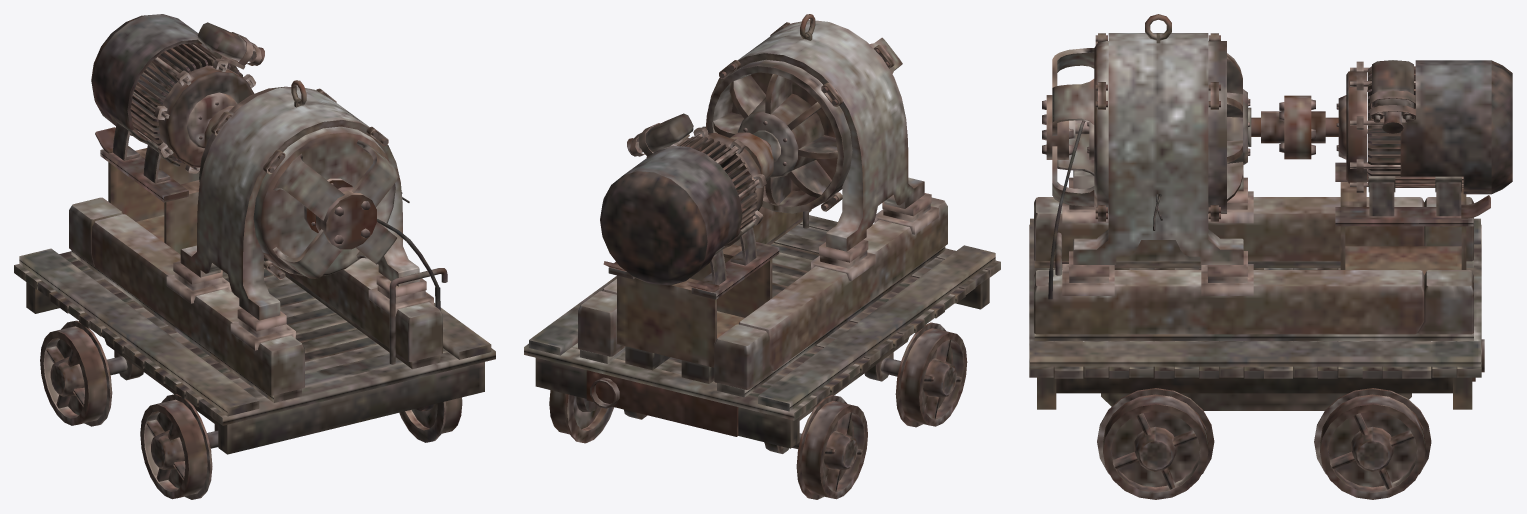
Rendered from sm22_084_disposalequipment01a.fbx.
The picture shows the model from 3 angles, left to right: view 1: azimuth 30°, elevation 25°; view 2: azimuth 150°, elevation 25°; view 3: azimuth 270°, elevation 25°; orthographic projection. The views are drawn at different scales.
Visible parts, largest first — view 1: LOD_1_Group_3_Sub_1__sm22_084_DisposalEquipment01A_A_Mat, LOD_1_Group_2_Sub_1__sm22_084_DisposalEquipment01A_A_Mat, LOD_1_Group_5_Sub_1__sm22_084_DisposalEquipment01A_A_Mat, LOD_1_Group_0_Sub_1__sm22_084_DisposalEquipment01A_A_Mat, LOD_1_Group_4_Sub_1__sm22_084_DisposalEquipment01A_A_Mat, LOD_1_Group_1_Sub_1__sm22_084_DisposalEquipment01A_A_Mat; view 2: LOD_1_Group_3_Sub_1__sm22_084_DisposalEquipment01A_A_Mat, LOD_1_Group_5_Sub_1__sm22_084_DisposalEquipment01A_A_Mat, LOD_1_Group_2_Sub_1__sm22_084_DisposalEquipment01A_A_Mat, LOD_1_Group_4_Sub_1__sm22_084_DisposalEquipment01A_A_Mat, LOD_1_Group_1_Sub_1__sm22_084_DisposalEquipment01A_A_Mat, LOD_1_Group_0_Sub_1__sm22_084_DisposalEquipment01A_A_Mat; view 3: LOD_1_Group_3_Sub_1__sm22_084_DisposalEquipment01A_A_Mat, LOD_1_Group_5_Sub_1__sm22_084_DisposalEquipment01A_A_Mat, LOD_1_Group_2_Sub_1__sm22_084_DisposalEquipment01A_A_Mat, LOD_1_Group_1_Sub_1__sm22_084_DisposalEquipment01A_A_Mat, LOD_1_Group_0_Sub_1__sm22_084_DisposalEquipment01A_A_Mat, LOD_1_Group_4_Sub_1__sm22_084_DisposalEquipment01A_A_Mat.
Part boxes in pixels (bbox=[...]): LOD_1_Group_3_Sub_1__sm22_084_DisposalEquipment01A_A_Mat: bbox=[69, 80, 442, 395]; LOD_1_Group_2_Sub_1__sm22_084_DisposalEquipment01A_A_Mat: bbox=[14, 248, 495, 454]; LOD_1_Group_5_Sub_1__sm22_084_DisposalEquipment01A_A_Mat: bbox=[91, 14, 440, 310]; LOD_1_Group_0_Sub_1__sm22_084_DisposalEquipment01A_A_Mat: bbox=[140, 394, 462, 499]; LOD_1_Group_4_Sub_1__sm22_084_DisposalEquipment01A_A_Mat: bbox=[95, 118, 199, 254]; LOD_1_Group_1_Sub_1__sm22_084_DisposalEquipment01A_A_Mat: bbox=[40, 320, 143, 426]; LOD_1_Group_3_Sub_1__sm22_084_DisposalEquipment01A_A_Mat: bbox=[578, 14, 947, 389]; LOD_1_Group_5_Sub_1__sm22_084_DisposalEquipment01A_A_Mat: bbox=[600, 22, 902, 285]; LOD_1_Group_2_Sub_1__sm22_084_DisposalEquipment01A_A_Mat: bbox=[524, 210, 1000, 448]; LOD_1_Group_4_Sub_1__sm22_084_DisposalEquipment01A_A_Mat: bbox=[603, 222, 779, 367]; LOD_1_Group_1_Sub_1__sm22_084_DisposalEquipment01A_A_Mat: bbox=[549, 390, 867, 499]; LOD_1_Group_0_Sub_1__sm22_084_DisposalEquipment01A_A_Mat: bbox=[864, 322, 967, 427]; LOD_1_Group_3_Sub_1__sm22_084_DisposalEquipment01A_A_Mat: bbox=[1034, 14, 1473, 334]; LOD_1_Group_5_Sub_1__sm22_084_DisposalEquipment01A_A_Mat: bbox=[1042, 33, 1512, 299]; LOD_1_Group_2_Sub_1__sm22_084_DisposalEquipment01A_A_Mat: bbox=[1029, 218, 1484, 410]; LOD_1_Group_1_Sub_1__sm22_084_DisposalEquipment01A_A_Mat: bbox=[1314, 388, 1431, 499]; LOD_1_Group_0_Sub_1__sm22_084_DisposalEquipment01A_A_Mat: bbox=[1097, 388, 1214, 499]; LOD_1_Group_4_Sub_1__sm22_084_DisposalEquipment01A_A_Mat: bbox=[1335, 162, 1490, 274].
Size of the model in its own units: 0.9302 by 1.2 by 1.25.
